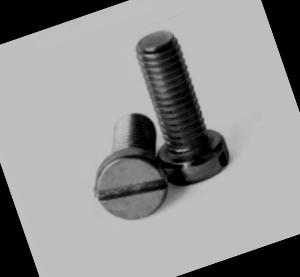slotted: (83, 138, 177, 230)
